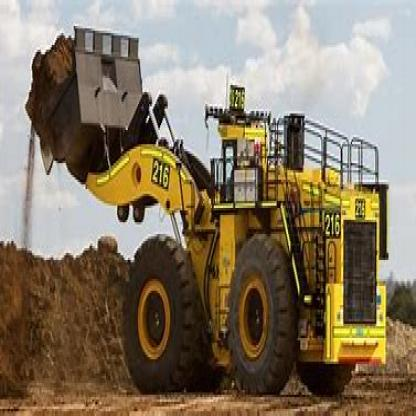bull_dozer/loader/grader: (22, 17, 396, 414)
